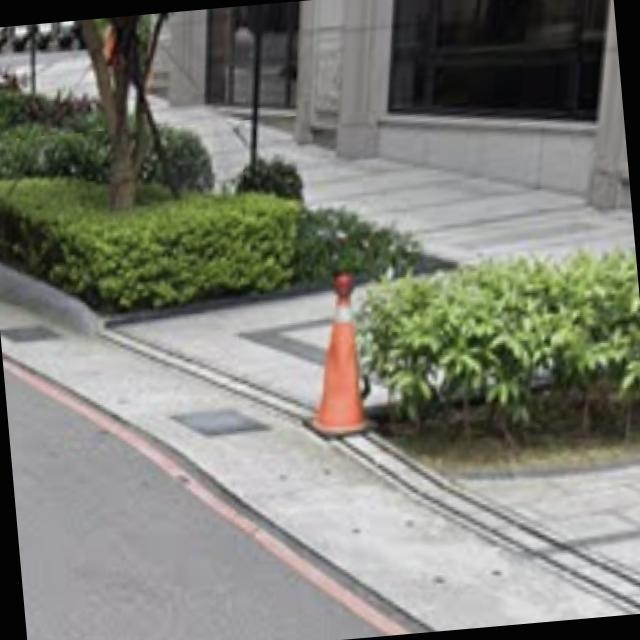cone: (300, 288, 364, 446)
